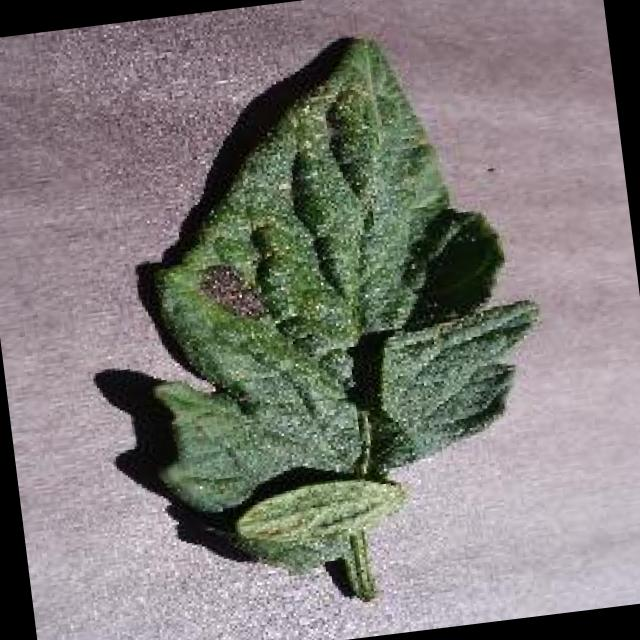Tomato_Early_Blight: (170, 208, 307, 402)
